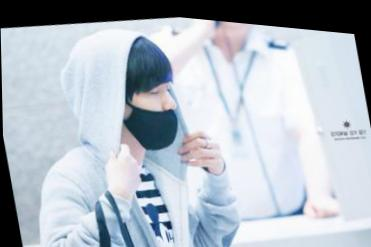WRONG: (115, 69, 184, 153)
